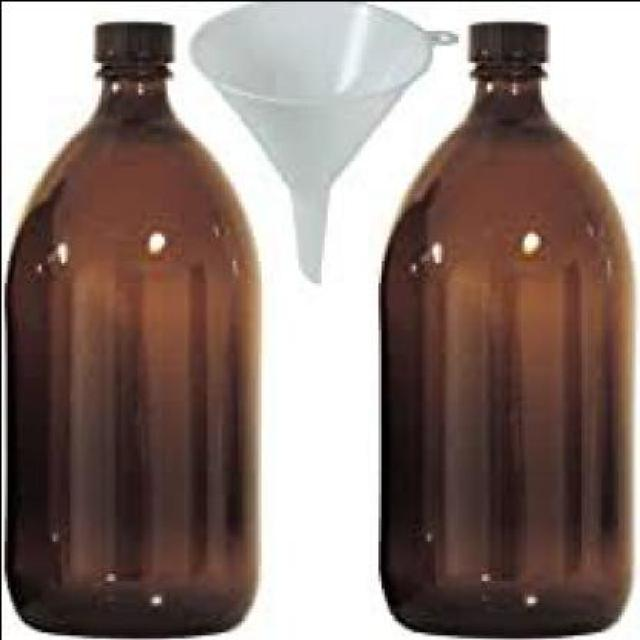glass: (374, 58, 629, 637), (2, 63, 255, 639)
plastic: (180, 2, 455, 280), (463, 18, 546, 60), (89, 18, 169, 60)
